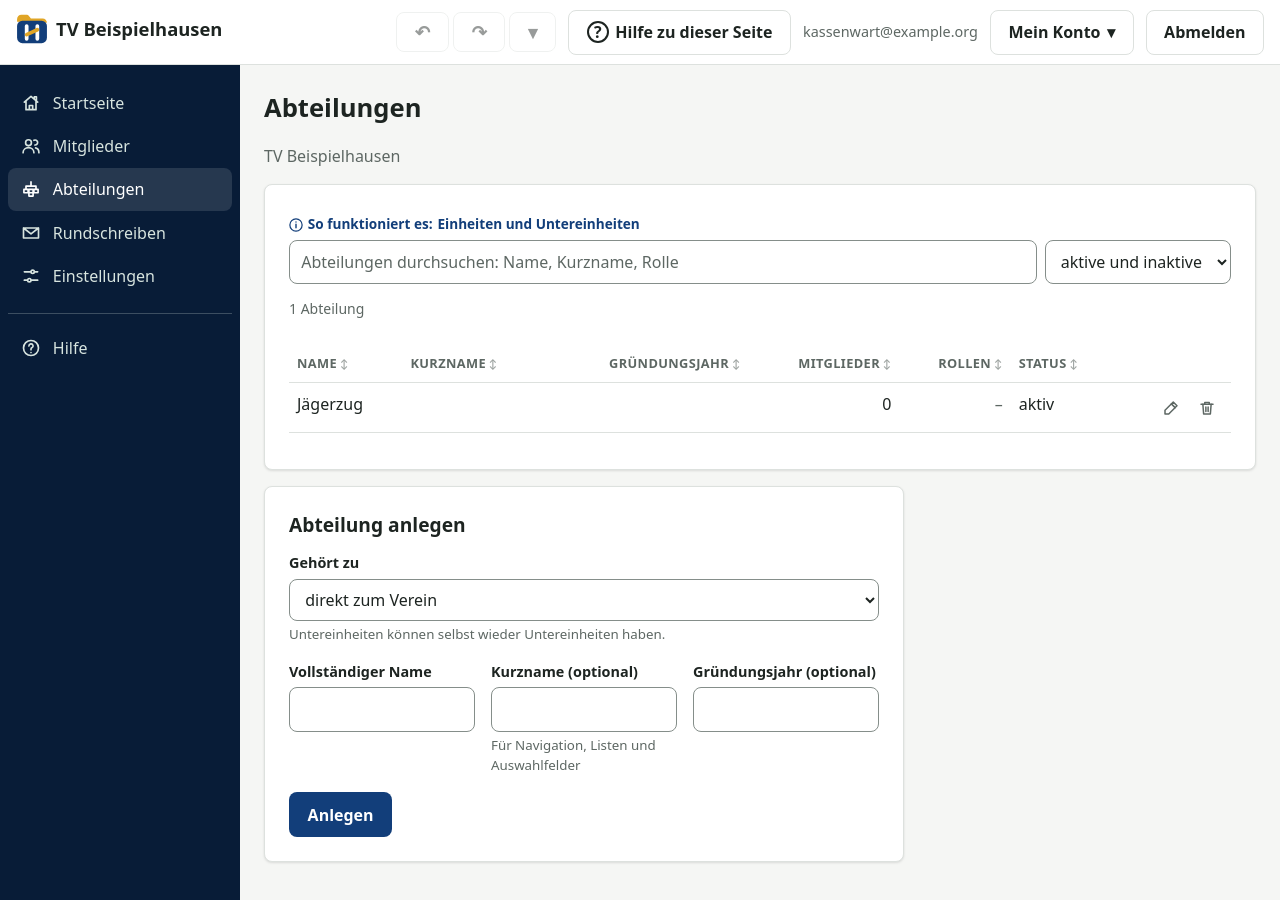
Test: Homepage einer Untereinheit › ohne Modul Webseite nur das Feld, kein Schalter
Click the button named "Jägerzug bearbeiten".
click(1171, 408)  # box [1155, 392, 1187, 424]
(page scrolled)
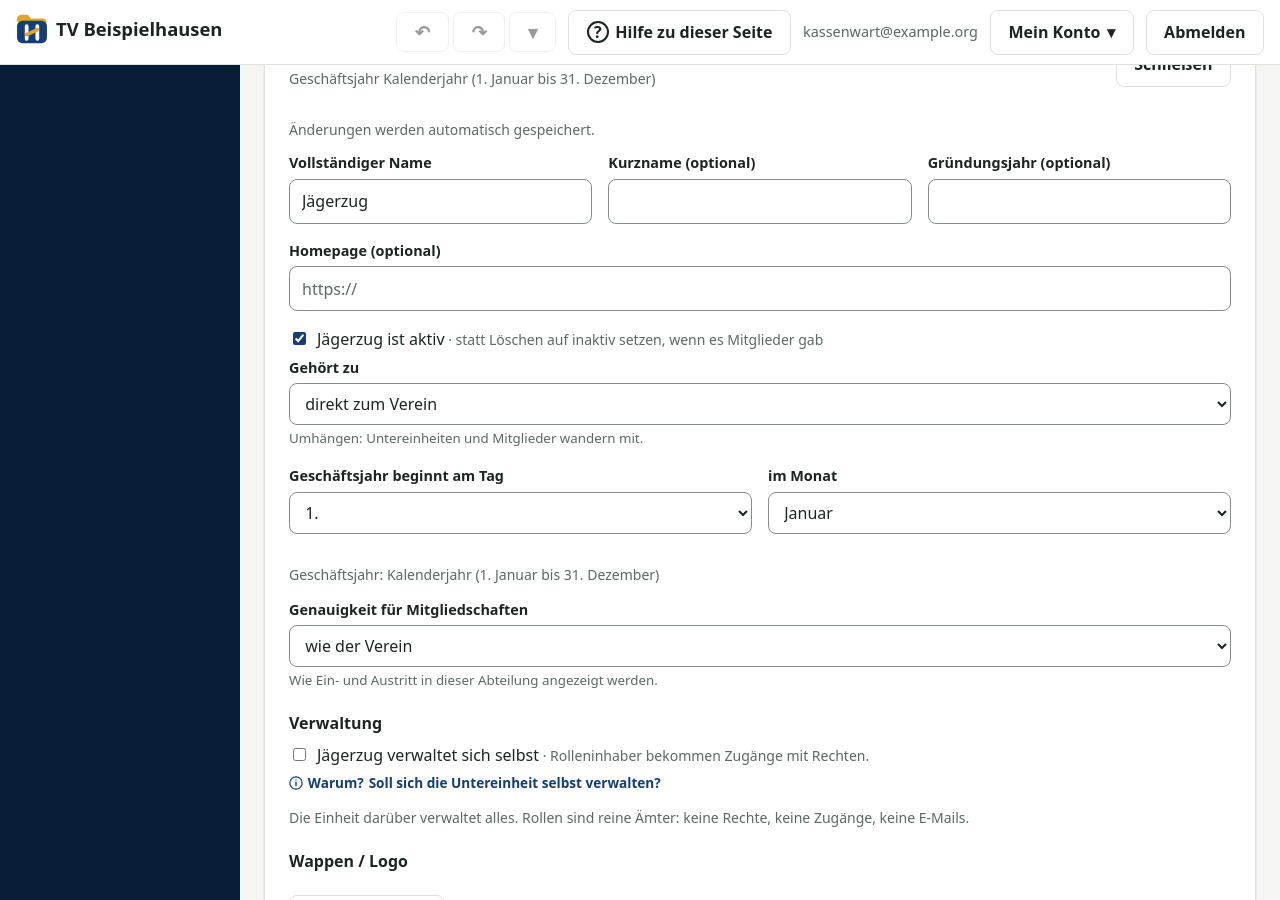
Now the field labelled "Homepage (optional)" is shown, box [289, 266, 1231, 311]
